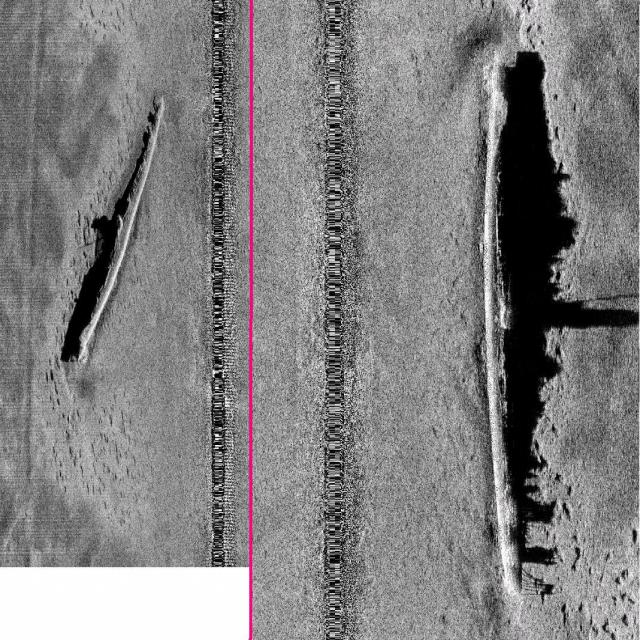ship: (476, 50, 560, 600), (76, 84, 162, 370)
